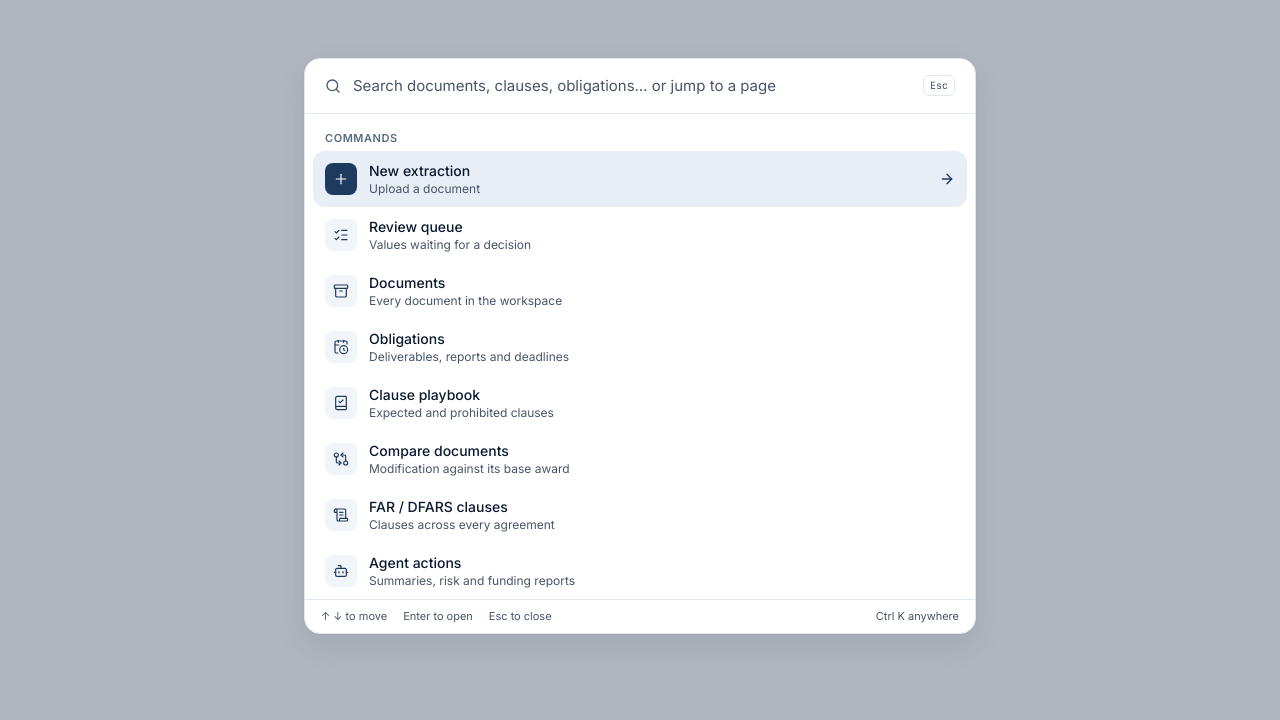
it: command palette › shows commands when empty and documents, clauses and obligations for a query
Expected: the text "Review queue" is shown, [369,218,463,235]
In the dropdown: [632, 86] box [353,59,911,113], type "termination"
Wait 250 ms
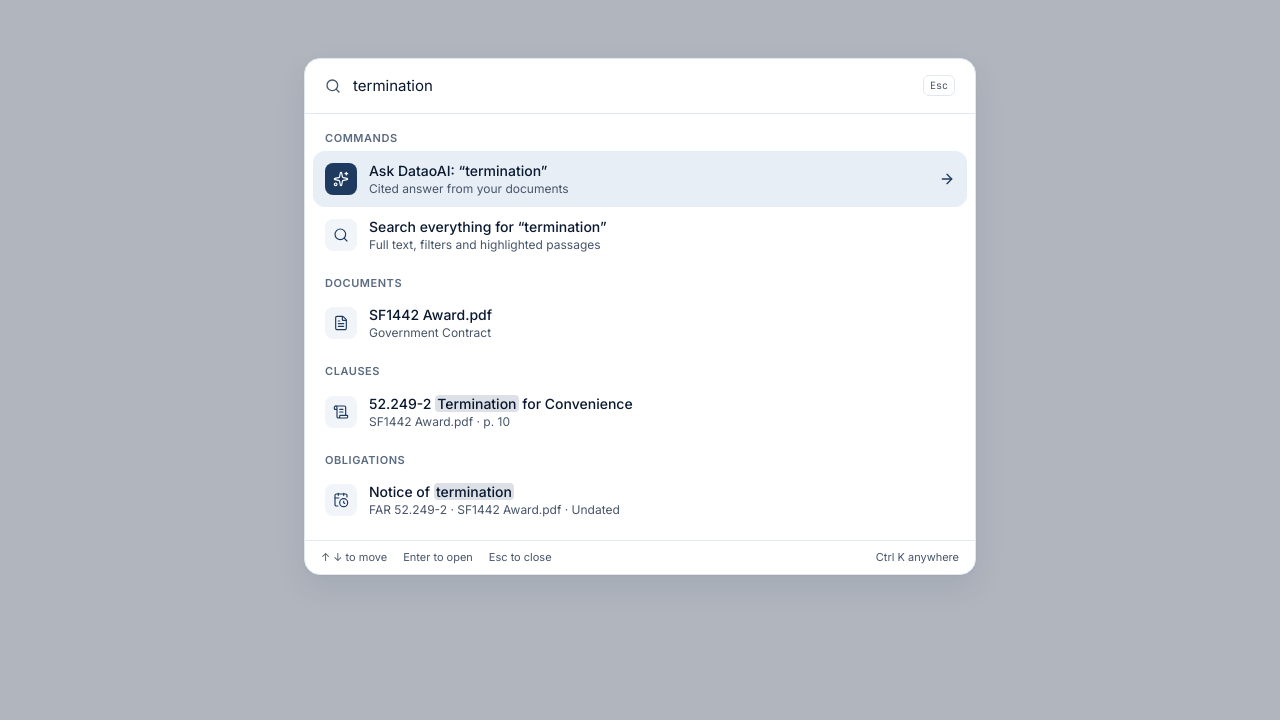
Result: the text "SF1442 Award.pdf" is shown at [369,306,492,323]
Result: the text "52.249-2 Termination for Convenience" is shown at [369,395,633,412]
Result: the text "termination" is shown at [434,483,514,500]
